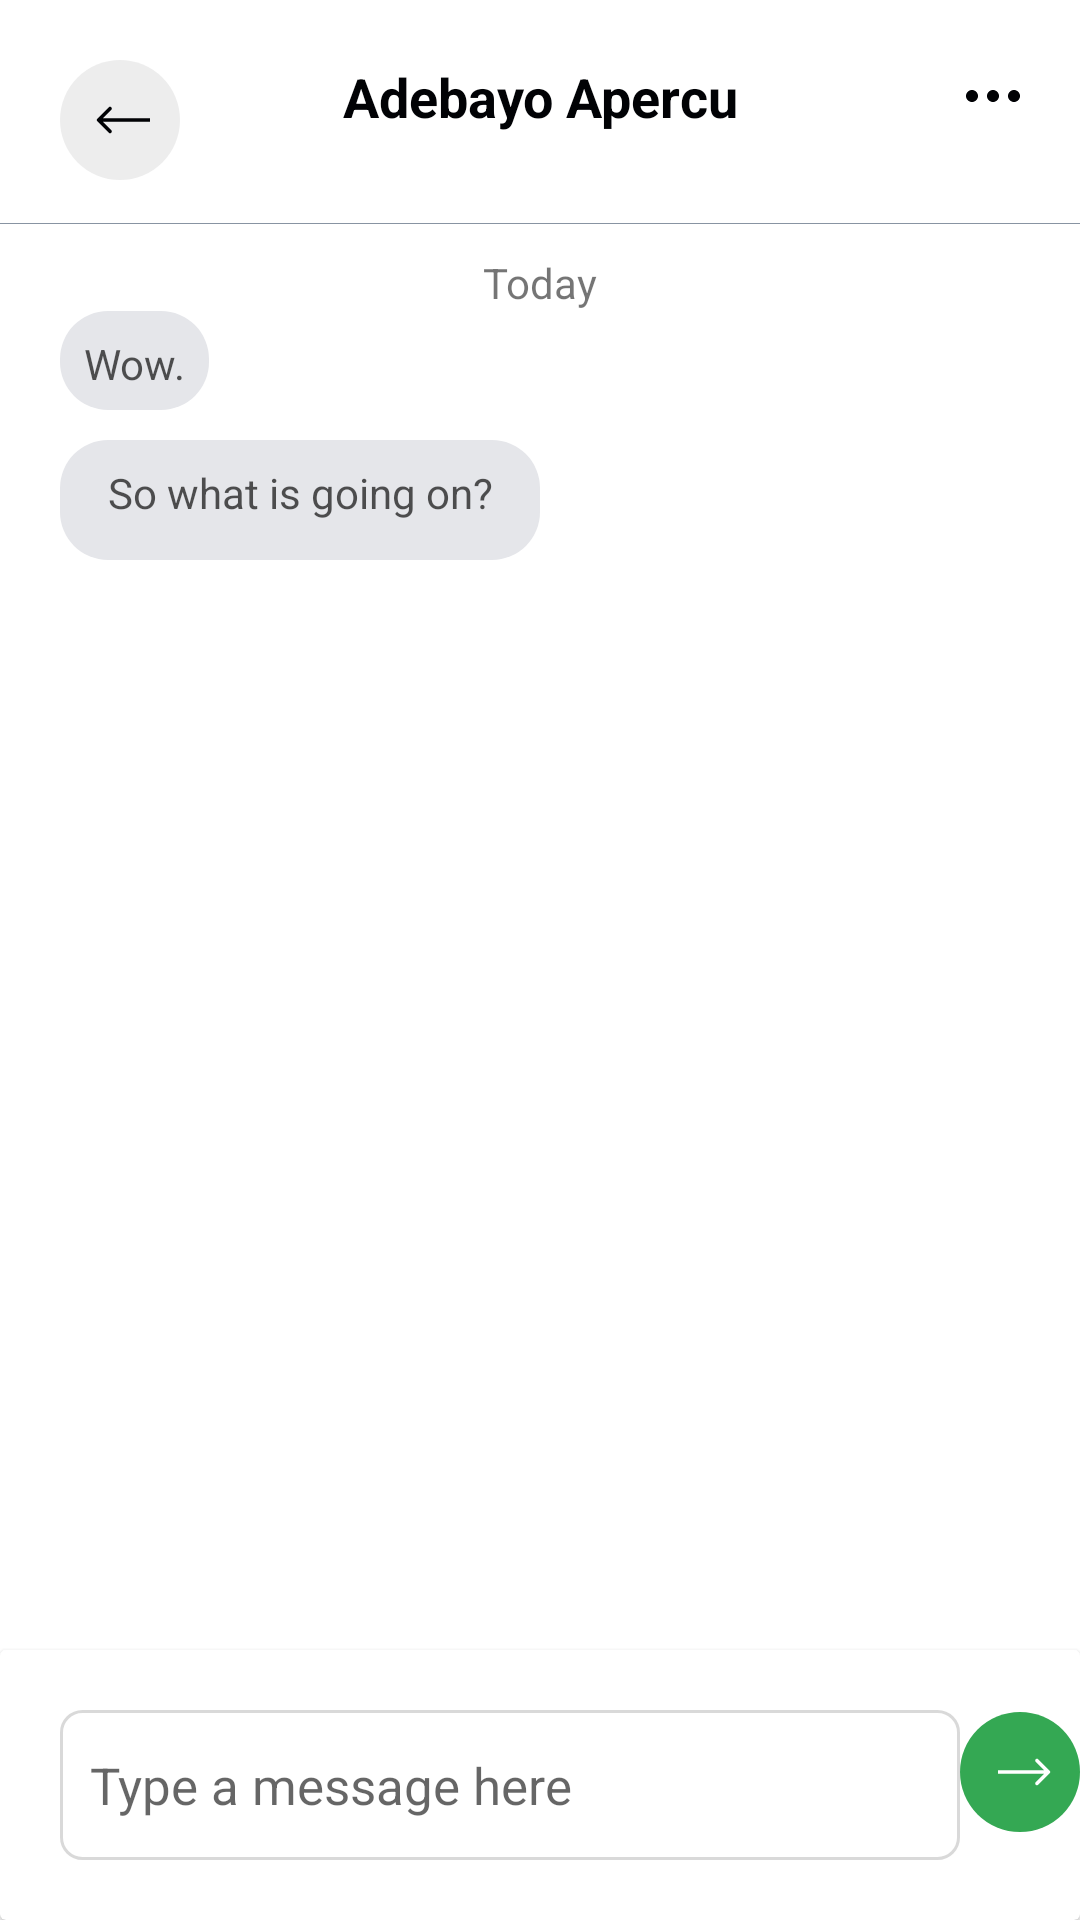

Named icons in this screenshot (1080 x 1920) and their centers, (x=x, y=y):
back arrow: (x=120, y=120)
